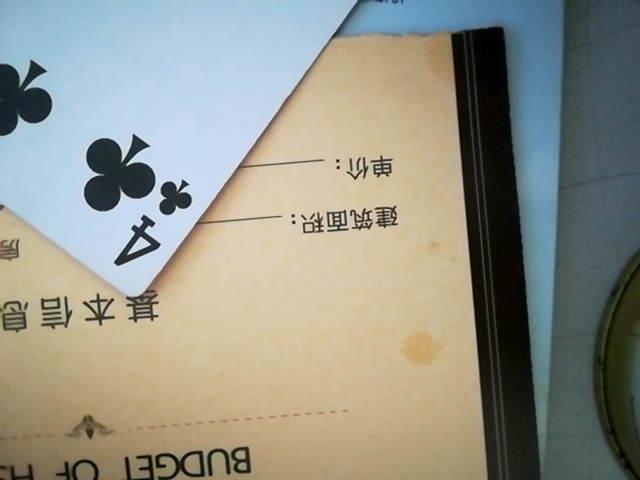mh 4: (5, 0, 437, 307)
